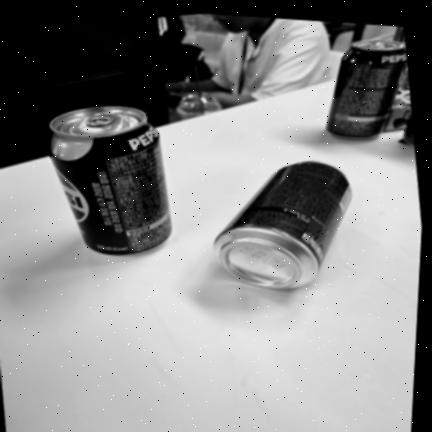can_coke_zero: (213, 161, 351, 288)
can_pepsi: (326, 40, 407, 137)
can_pepsi_zero: (48, 106, 172, 256)
